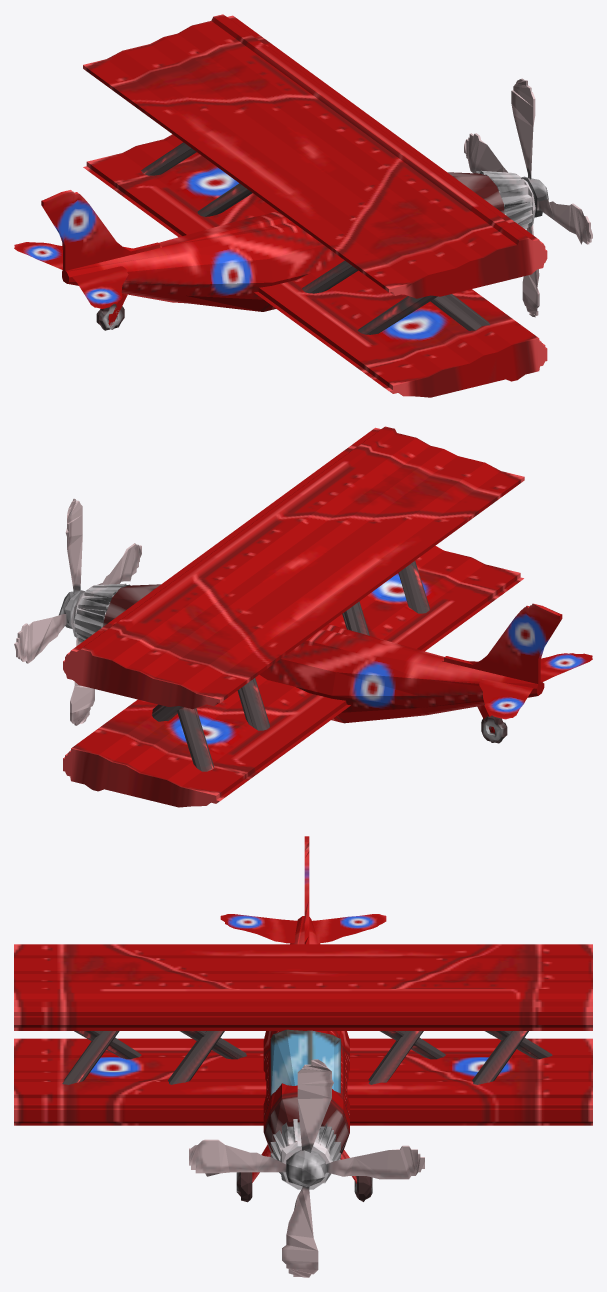
The model's file is BiPlane.glb.
3 renders of one model, top to bottom at view 1: azimuth 30°, elevation 25°; view 2: azimuth 150°, elevation 25°; view 3: azimuth 270°, elevation 25°, orthographic. The views are drawn at different scales.
Visible parts, largest first — view 1: BiPlane; view 2: BiPlane; view 3: BiPlane.
Boxes of the visible parts, x1,y1,x2,y2 form: BiPlane: (14, 14, 592, 397); BiPlane: (14, 426, 592, 807); BiPlane: (14, 836, 592, 1277).
Size of the model in its own units: 71.2 by 31.44 by 74.99.
1 material, 1 textured.
